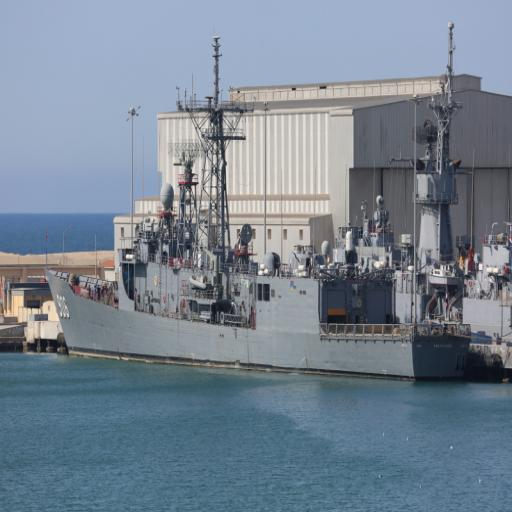Fragata: (45, 36, 481, 384)
